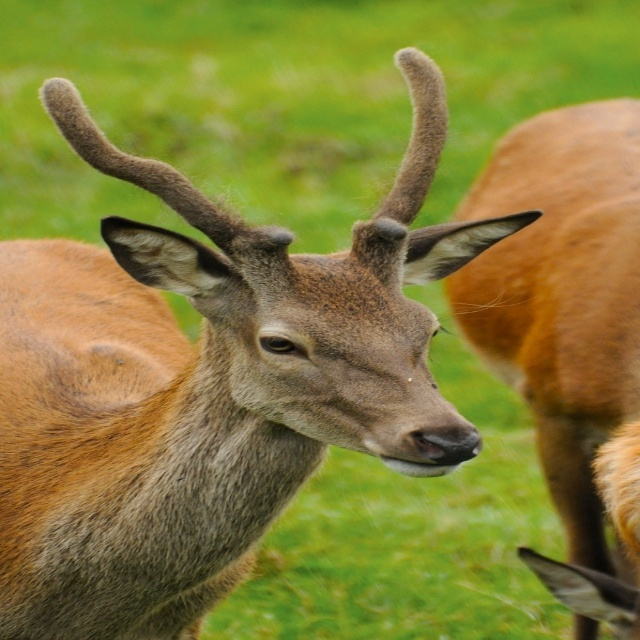Deer: (0, 47, 543, 640), (444, 97, 640, 640)
